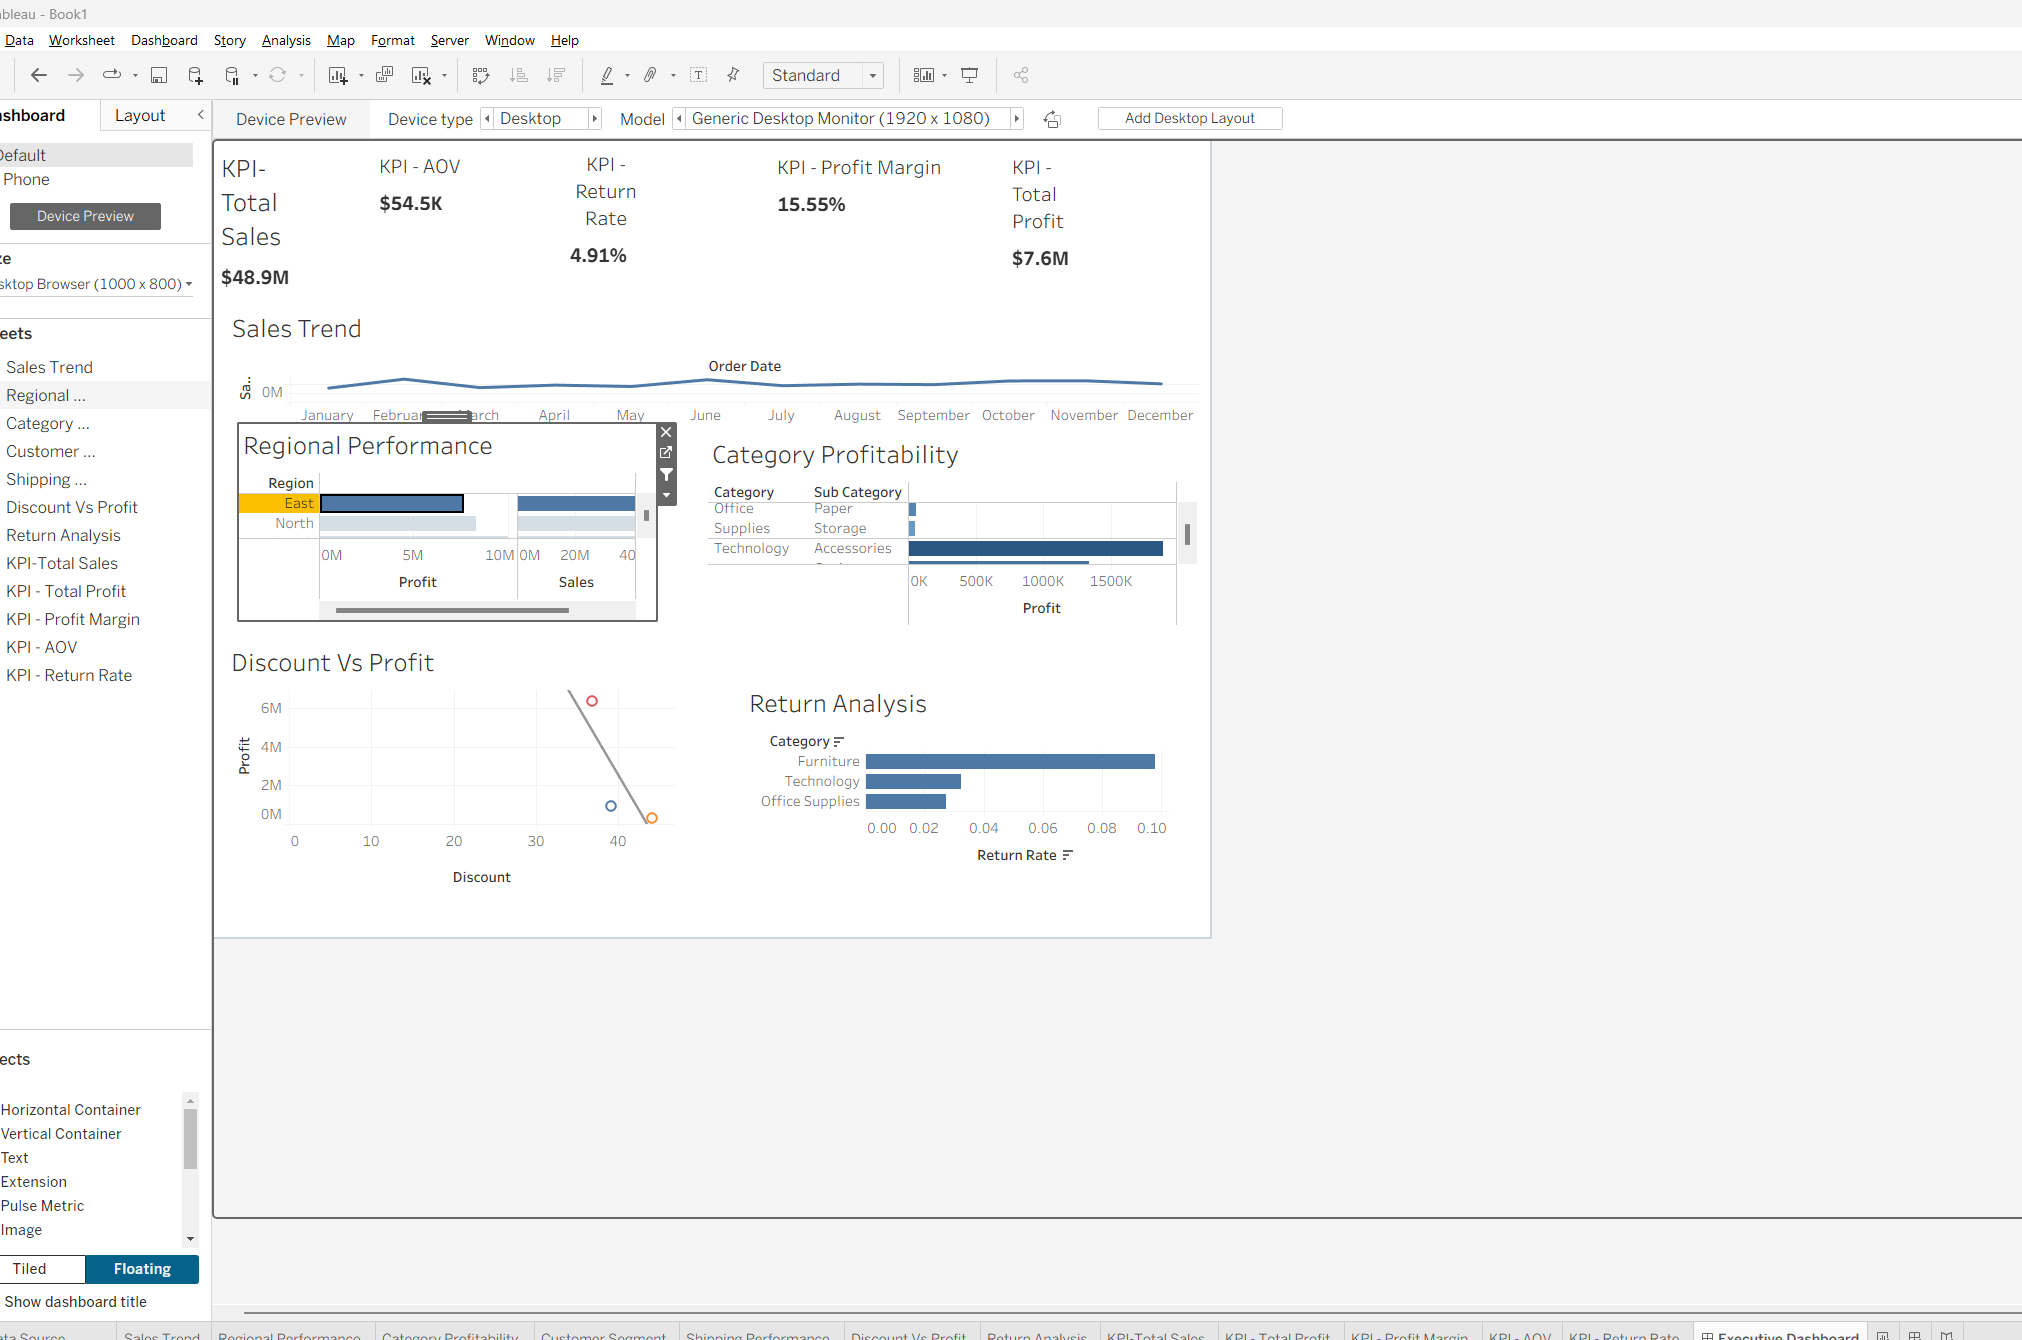

The dashboard page shown, as its layout file describes it:
{"tool":"tableau","page":{"name":"Executive Dashboard","canvas":[1000,800],"ordinal":0},"visuals":[{"type":"worksheet","title":"KPI - Return Rate","mark":"Automatic","box":[354,7,197,127]},{"type":"worksheet","title":"KPI-Total Sales","mark":"Automatic","box":[5,8,176,150]},{"type":"worksheet","title":"KPI - AOV","mark":"Automatic","box":[163,9,167,117]},{"type":"worksheet","title":"KPI - Profit Margin","mark":"Automatic","box":[561,10,193,118]},{"type":"worksheet","title":"KPI - Total Profit","mark":"Automatic","box":[796,10,191,134]},{"type":"worksheet","title":"Sales Trend","mark":"Line","rows":["sales"],"cols":["order_date"],"box":[16,168,971,137]},{"type":"worksheet","title":"Regional Performance","mark":"Automatic","rows":["region"],"cols":["profit","sales"],"box":[27,285,417,196]},{"type":"worksheet","title":"Category Profitability","mark":"Automatic","rows":["category","sub_category"],"cols":["profit"],"box":[496,294,489,193]},{"type":"worksheet","title":"Discount Vs Profit","mark":"Automatic","rows":["profit"],"cols":["discount"],"box":[15,502,448,253]},{"type":"worksheet","title":"Return Analysis","mark":"Automatic","rows":["category"],"cols":["Calculation_0367528889700355"],"box":[533,543,424,246]}]}

Visuals, with their boxes on the page's 1000x800 design canvas (x1, y1, x2, y2). These are canvas units, not pixel positions in the 2022x1340 screenshot, which may show the page scaled, cropped or inside an application window:
"KPI - Return Rate" worksheet: (left=354, top=7, right=551, bottom=134)
"KPI-Total Sales" worksheet: (left=5, top=8, right=181, bottom=158)
"KPI - AOV" worksheet: (left=163, top=9, right=330, bottom=126)
"KPI - Profit Margin" worksheet: (left=561, top=10, right=754, bottom=128)
"KPI - Total Profit" worksheet: (left=796, top=10, right=987, bottom=144)
"Sales Trend" worksheet (Line marks): (left=16, top=168, right=987, bottom=305)
"Regional Performance" worksheet: (left=27, top=285, right=444, bottom=481)
"Category Profitability" worksheet: (left=496, top=294, right=985, bottom=487)
"Discount Vs Profit" worksheet: (left=15, top=502, right=463, bottom=755)
"Return Analysis" worksheet: (left=533, top=543, right=957, bottom=789)
